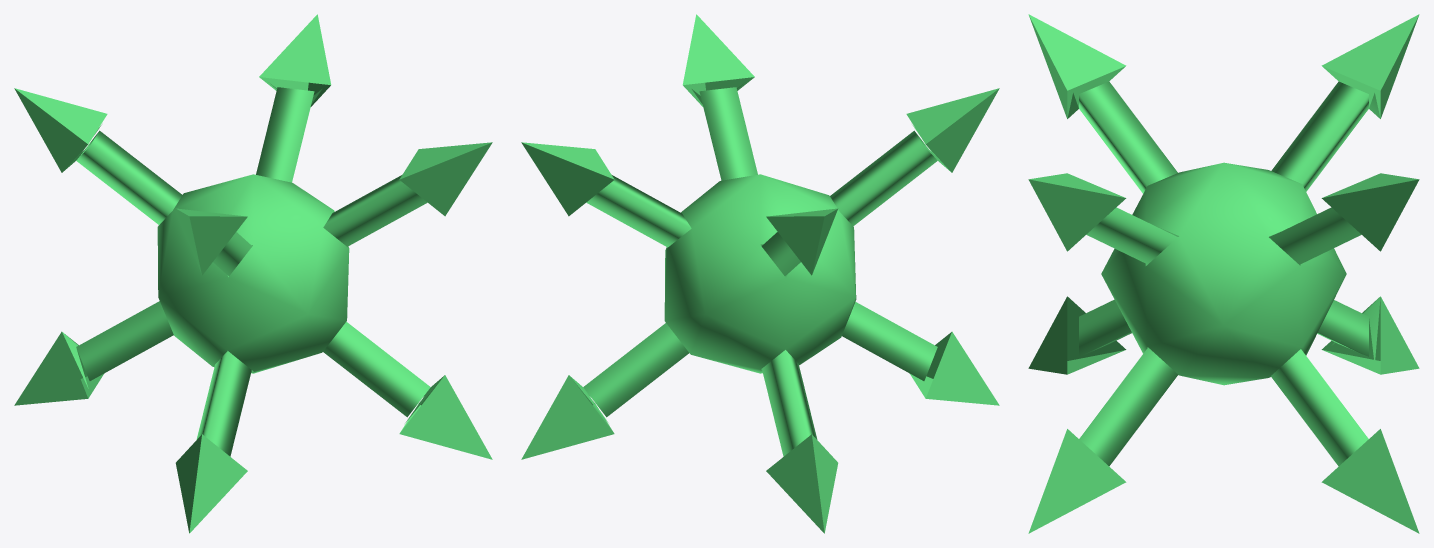
The model's file is chaosphere.fbx.
3 views of the same model, side by side, from view 1: azimuth 30°, elevation 25°; view 2: azimuth 150°, elevation 25°; view 3: azimuth 270°, elevation 25° (orthographic). The views are drawn at different scales.
Parts seen in each view (by area): view 1: Chaosphere; view 2: Chaosphere; view 3: Chaosphere.
Boxes of the visible parts, left/top/right/bottom form: Chaosphere: left=14, top=14, right=492, bottom=533; Chaosphere: left=521, top=14, right=999, bottom=533; Chaosphere: left=1028, top=14, right=1419, bottom=533.
Size of the model in its own units: 235 by 235 by 235.
